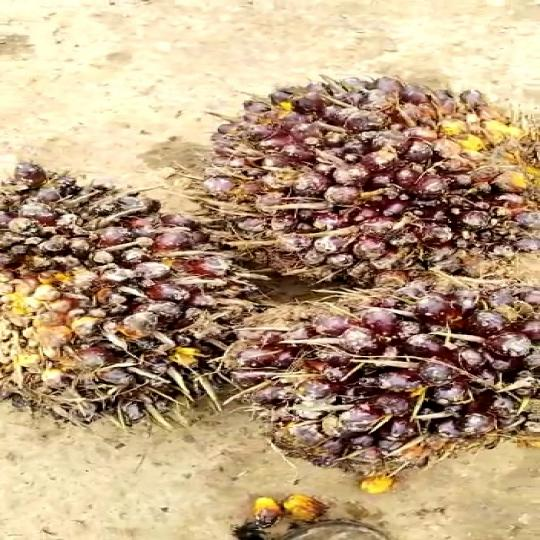kurang masak: (0, 137, 291, 434), (176, 59, 540, 290), (207, 260, 540, 504)
